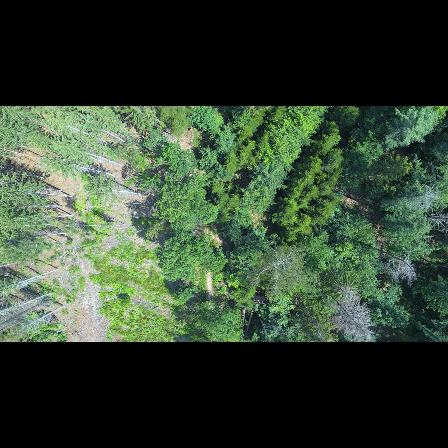Dead: (332, 277, 377, 341), (252, 246, 299, 293), (396, 186, 443, 212), (383, 252, 417, 284)
